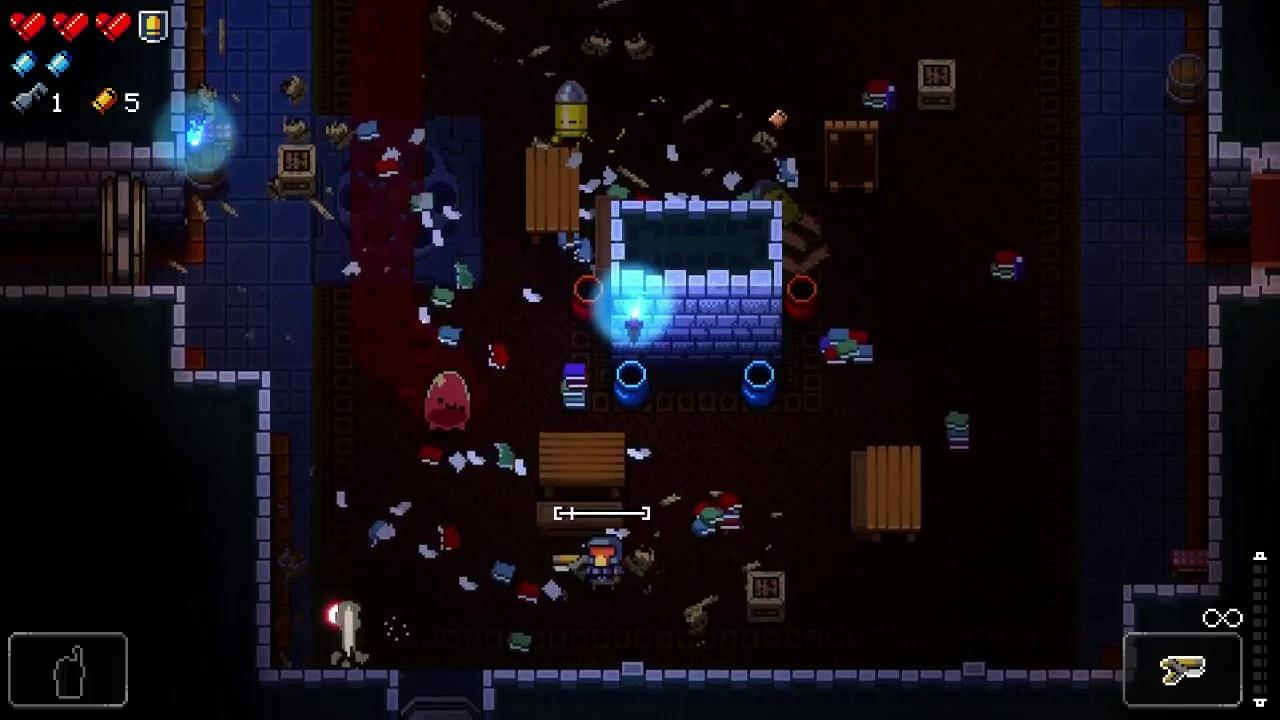blobulon_l: (426, 372, 471, 429)
blocked_door: (1251, 156, 1280, 285)
bullet_kin: (555, 79, 589, 141)
locked_door: (102, 173, 147, 285)
player: (585, 537, 623, 590)
table: (539, 432, 626, 498), (866, 446, 922, 543), (527, 147, 578, 243), (824, 121, 878, 195)
teleporter: (314, 115, 483, 291)
